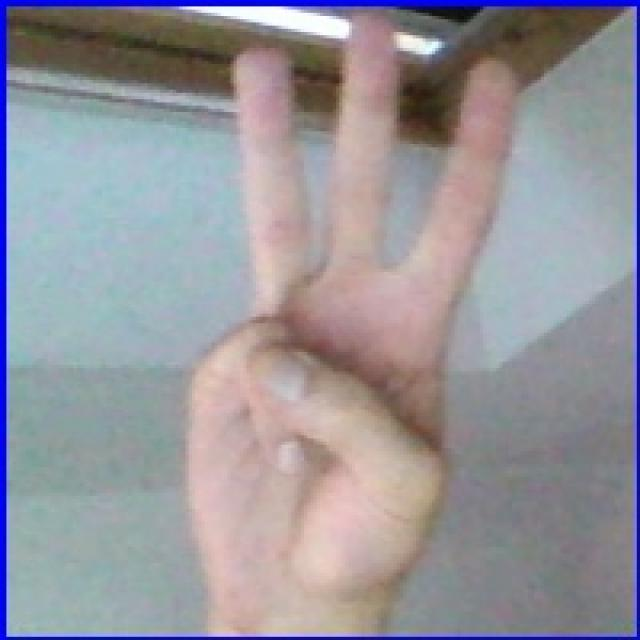Letra-W: (150, 8, 547, 625)
